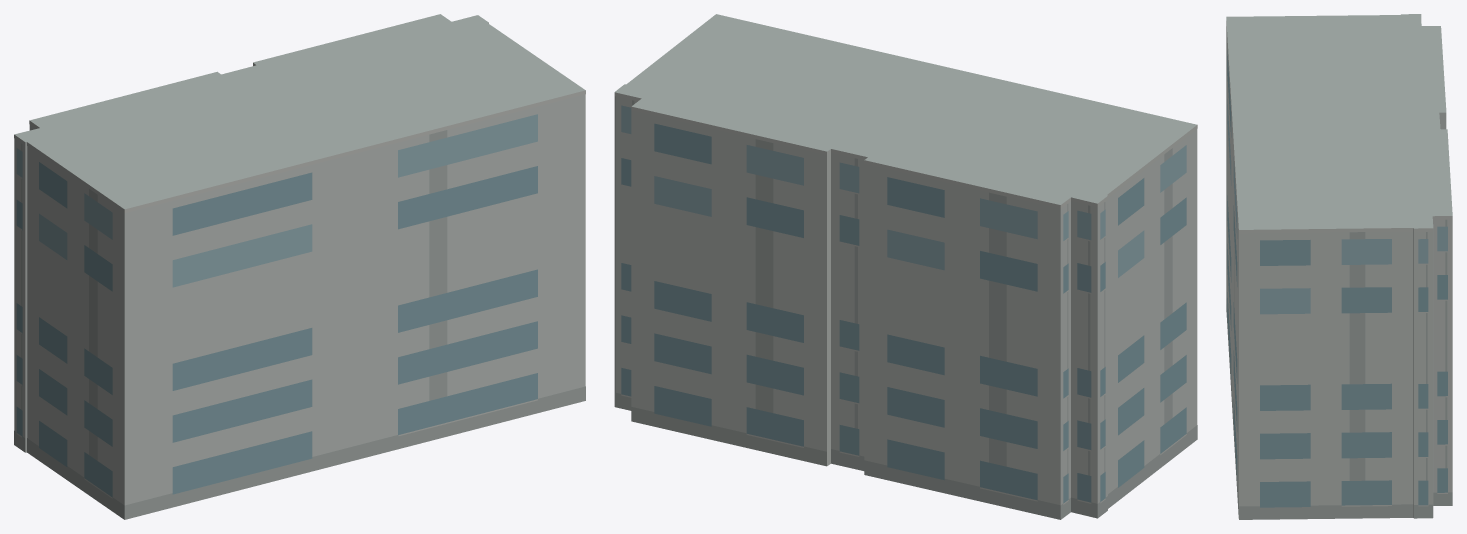
File: survey-upis-32833894.glb
The picture shows the model from 3 angles, left to right: view 1: azimuth 30°, elevation 25°; view 2: azimuth 150°, elevation 25°; view 3: azimuth 270°, elevation 25°; orthographic projection. The views are drawn at different scales.
Parts seen in each view (by area): view 1: survey-upis-32833894.tmp; view 2: survey-upis-32833894.tmp; view 3: survey-upis-32833894.tmp.
Boxes of the visible parts, x1,y1,x2,y2 form: survey-upis-32833894.tmp: (14, 14, 585, 519); survey-upis-32833894.tmp: (614, 14, 1197, 519); survey-upis-32833894.tmp: (1226, 14, 1452, 519).
Bounding box in the file's own units: 31.32 × 19.6 × 13.89.
